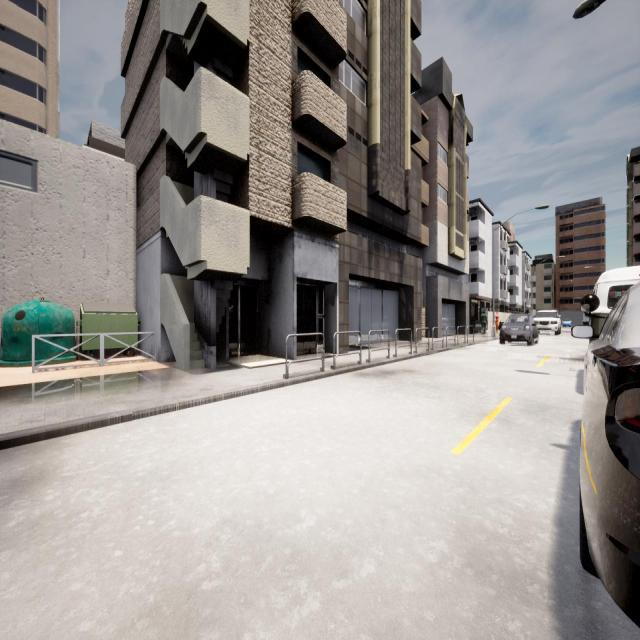Pedestrian: (480, 310, 487, 334), (496, 312, 500, 333)
Vehicle: (580, 282, 640, 625), (592, 266, 640, 343), (500, 313, 538, 344), (534, 310, 560, 336), (562, 318, 572, 327)
